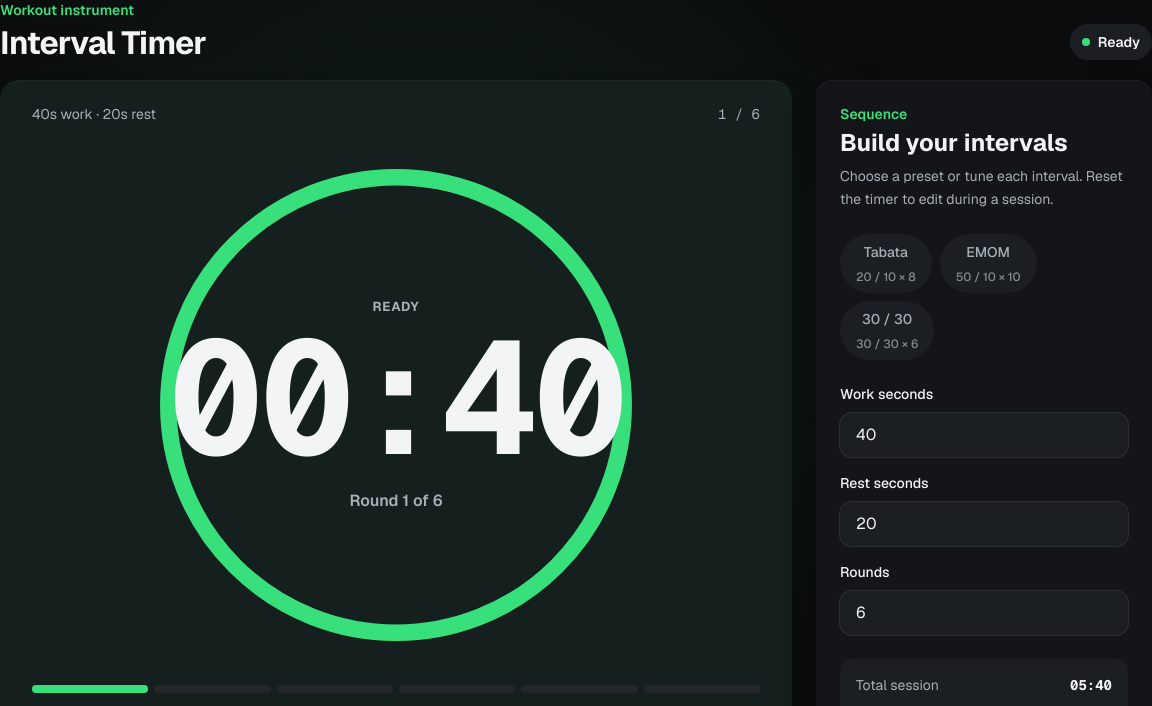
Test: Interval Timer › completes a configured sequence after the final work interval
The image size is (1152, 706).
Replace the text in the number field labelled "Work seconds" with "1": (984, 435) [840,413,1128,457]
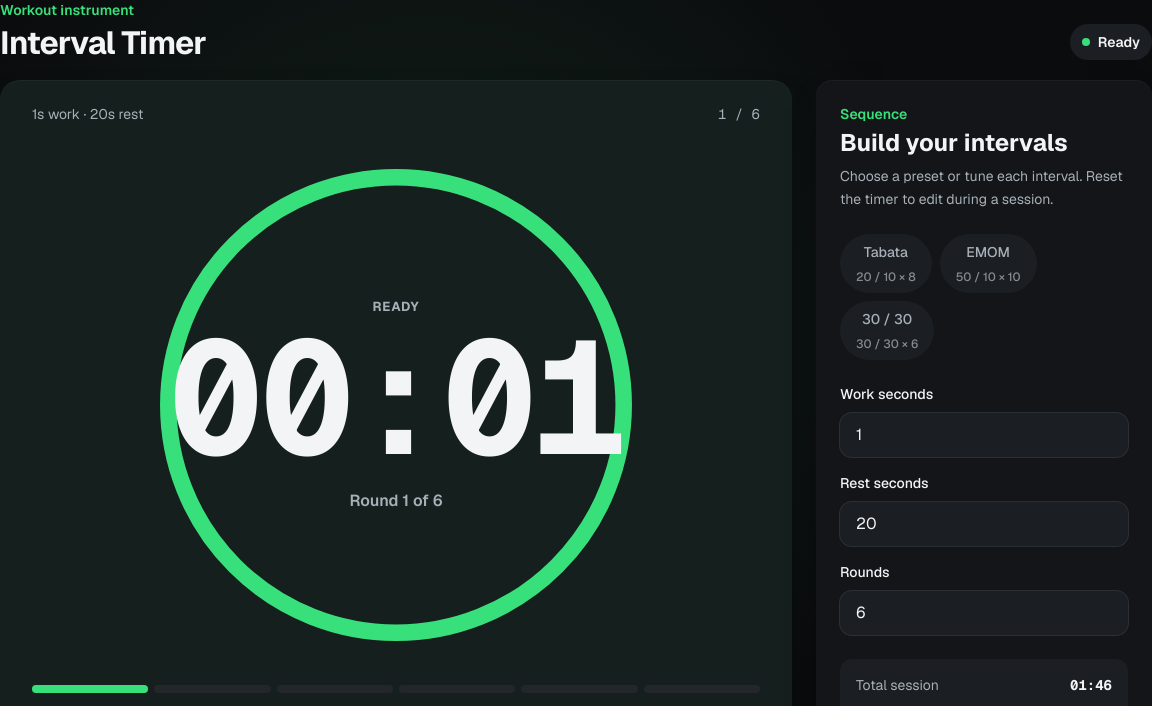
Replace the text in the number field labelled "Rest seconds" with "1": (984, 524) [840,502,1128,546]
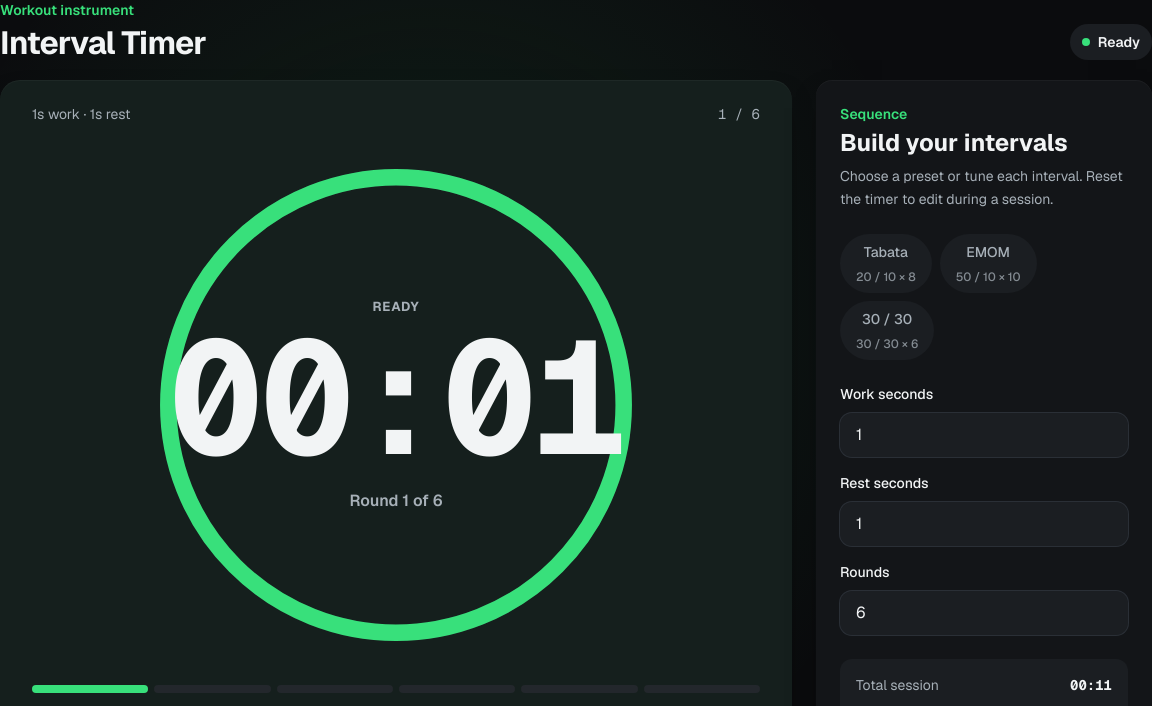
Replace the text in the number field labelled "Rounds" with "2": (984, 613) [840,591,1128,635]
(page scrolled)
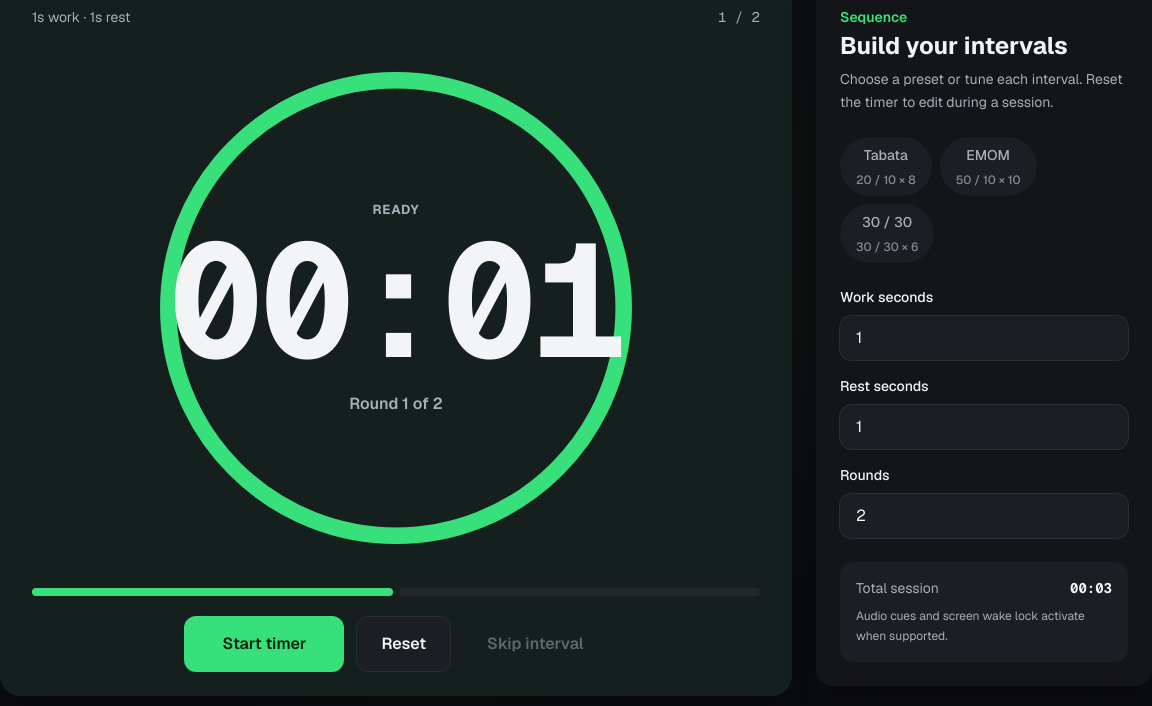
Click the button "Start timer": click(264, 644) [184,616,344,672]
Wait 7000 ms
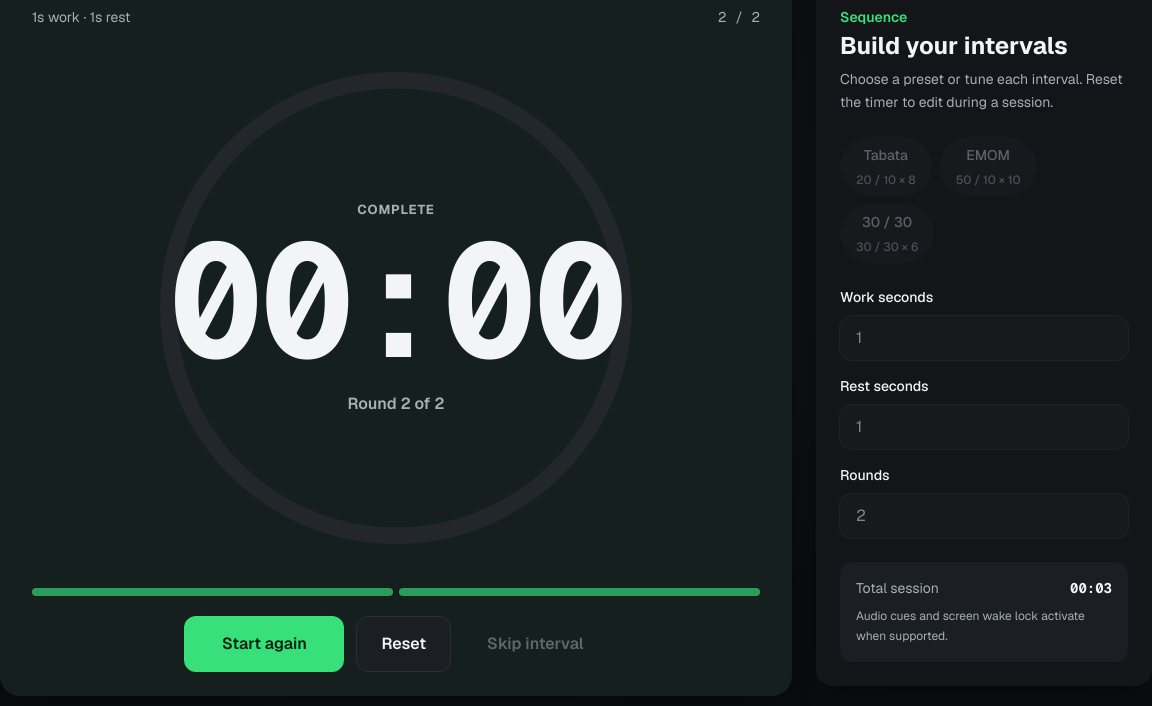
Check: the text named "COMPLETE 00:00" is shown, box [168,220,624,380]
Check: the button "Start again" is shown, box [184,616,344,672]
